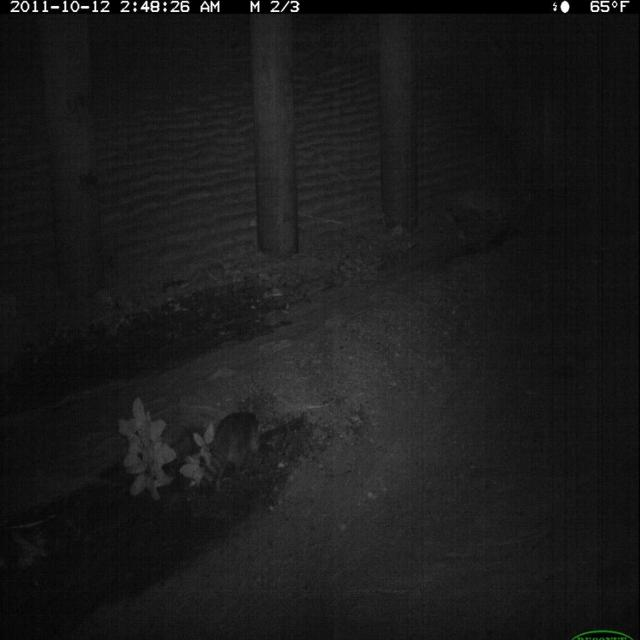raccoon: (202, 403, 267, 503)
